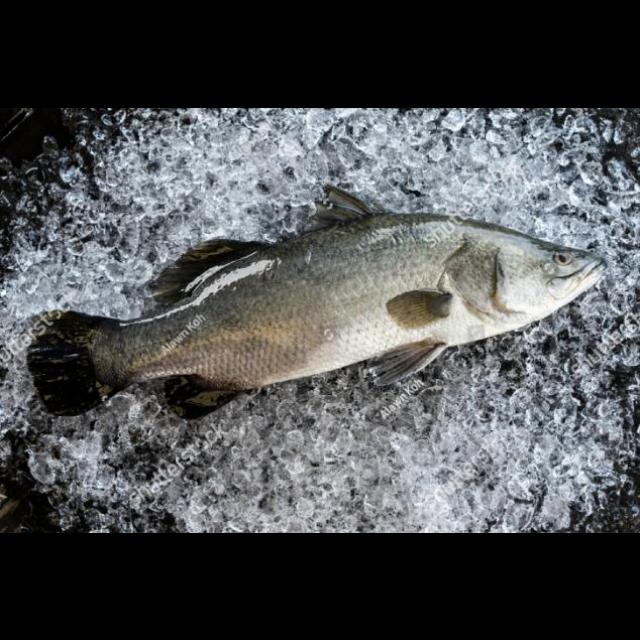Seabass: (29, 184, 608, 422)
